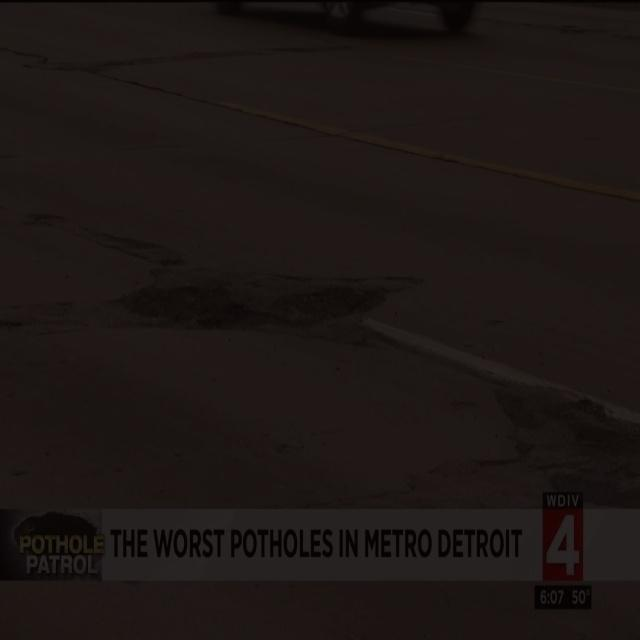Pothole: (81, 253, 425, 349), (474, 362, 640, 503), (31, 208, 181, 260)
